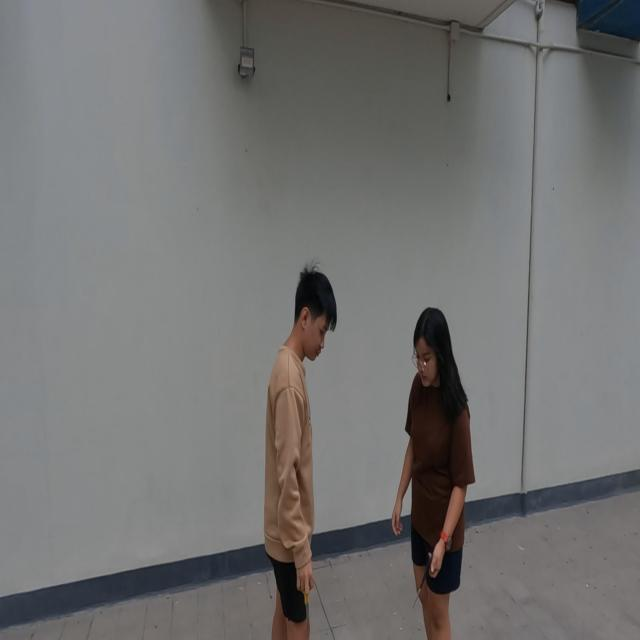scissor: (298, 582, 314, 632)
